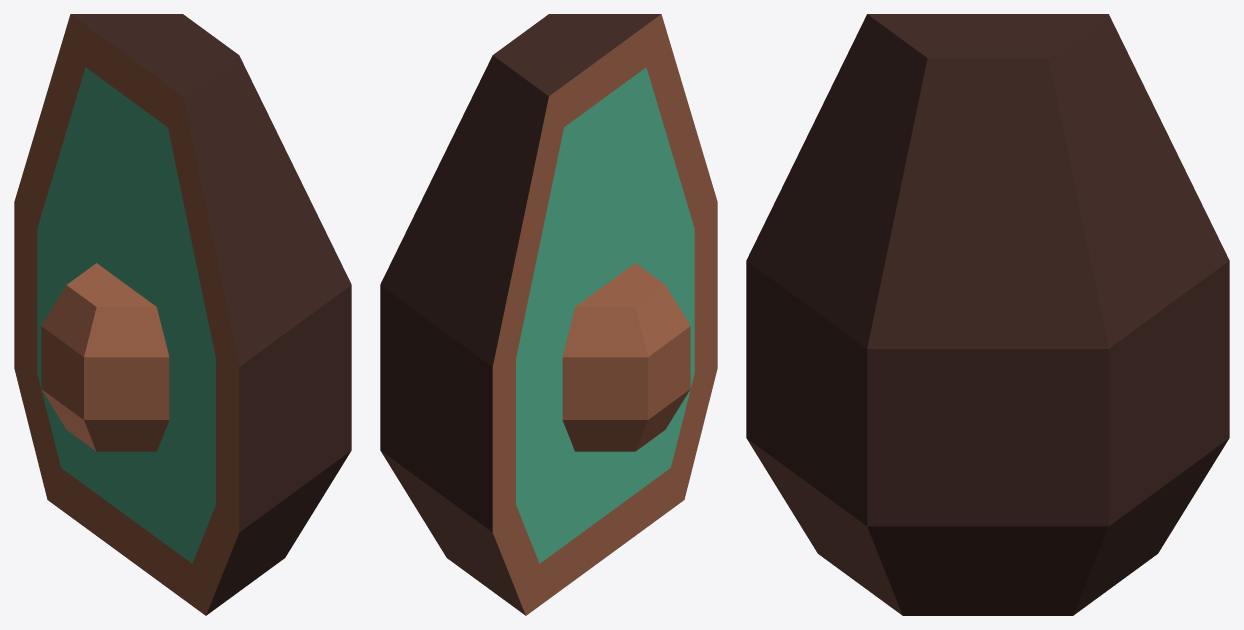
File: avocadoHalf.obj
3 views of the same model, side by side, from view 1: azimuth 30°, elevation 25°; view 2: azimuth 150°, elevation 25°; view 3: azimuth 270°, elevation 25° (orthographic). The views are drawn at different scales.
Visible parts, largest first — view 1: avocadoHalf, pit; view 2: avocadoHalf, pit; view 3: avocadoHalf.
Part boxes in pixels (x1=…): avocadoHalf: x1=14, y1=14, x2=351, y2=615; pit: x1=41, y1=263, x2=169, y2=451; avocadoHalf: x1=380, y1=14, x2=717, y2=615; pit: x1=562, y1=263, x2=690, y2=451; avocadoHalf: x1=746, y1=14, x2=1229, y2=615.
Bounding box in the file's own units: 0.1036 × 0.2137 × 0.1734.
